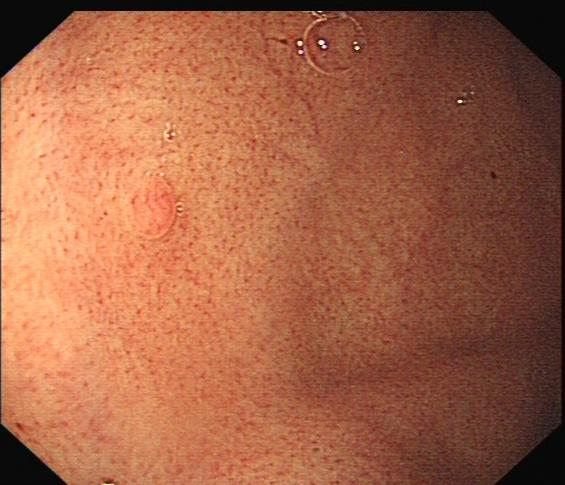Polyp: (119, 171, 181, 243)
